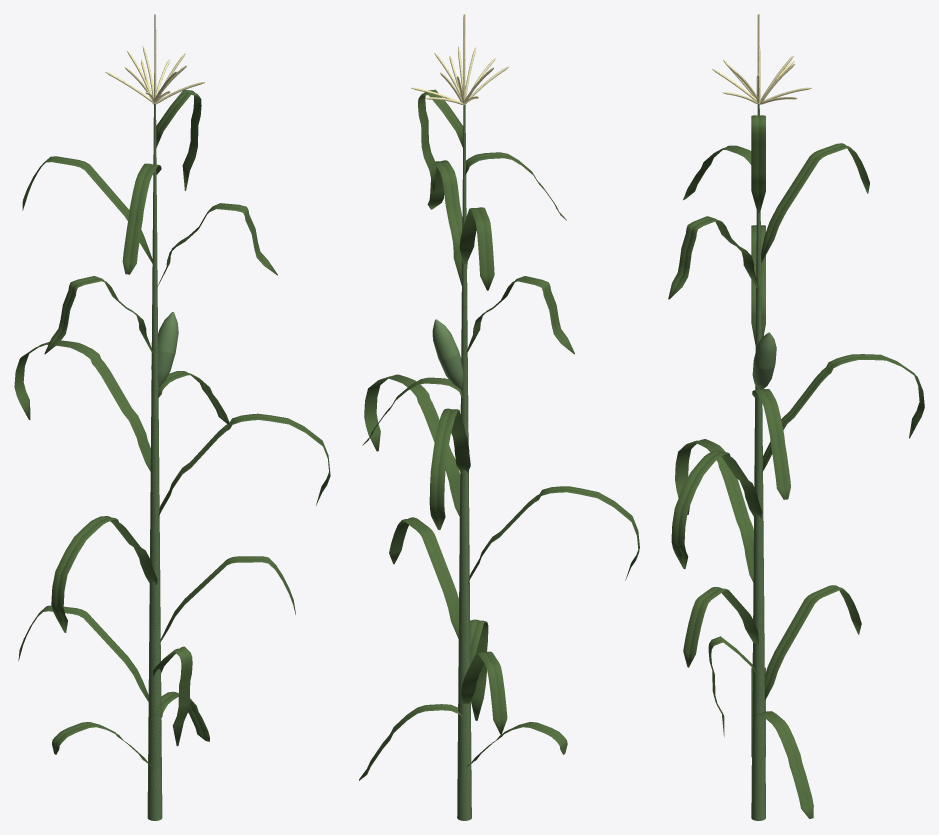
3 renders of one model, left to right at view 1: azimuth 30°, elevation 25°; view 2: azimuth 150°, elevation 25°; view 3: azimuth 270°, elevation 25°, orthographic.
Parts seen in each view (by area): view 1: Stalk, Leaf2 (×3), Leaf1 (×4), Leaf5 (×3), Leaf3 (×2), Leaf4 (×2), Cob; view 2: Leaf2 (×3), Stalk, Leaf5 (×3), Leaf4 (×2), Leaf3 (×2), Leaf1 (×3), Cob (×2); view 3: Leaf2 (×3), Stalk, Leaf5 (×3), Leaf1 (×3), Leaf4 (×2), Leaf3 (×2), Cob.
Part boxes in pixels (x1,y1,x2,y2): Stalk: [147, 104, 162, 820]; Leaf2 (×3): [14, 340, 330, 632]; Leaf1 (×4): [52, 163, 229, 766]; Leaf5 (×3): [18, 156, 295, 702]; Leaf3 (×2): [153, 90, 201, 746]; Leaf4 (×2): [44, 203, 277, 354]; Cob: [158, 312, 178, 352]; Leaf2 (×3): [364, 374, 639, 584]; Stalk: [457, 105, 471, 820]; Leaf5 (×3): [389, 207, 507, 734]; Leaf4 (×2): [427, 160, 574, 354]; Leaf3 (×2): [418, 89, 488, 720]; Leaf1 (×3): [359, 152, 567, 780]; Cob (×2): [432, 319, 463, 389]; Leaf2 (×3): [671, 354, 924, 582]; Stalk: [751, 104, 765, 820]; Leaf5 (×3): [683, 143, 869, 700]; Leaf1 (×3): [683, 145, 813, 818]; Leaf4 (×2): [668, 216, 765, 344]; Leaf3 (×2): [708, 115, 765, 736]; Cob: [753, 332, 776, 369].
Bounding box in the file's own units: 30.23 × 24.32 × 84.
